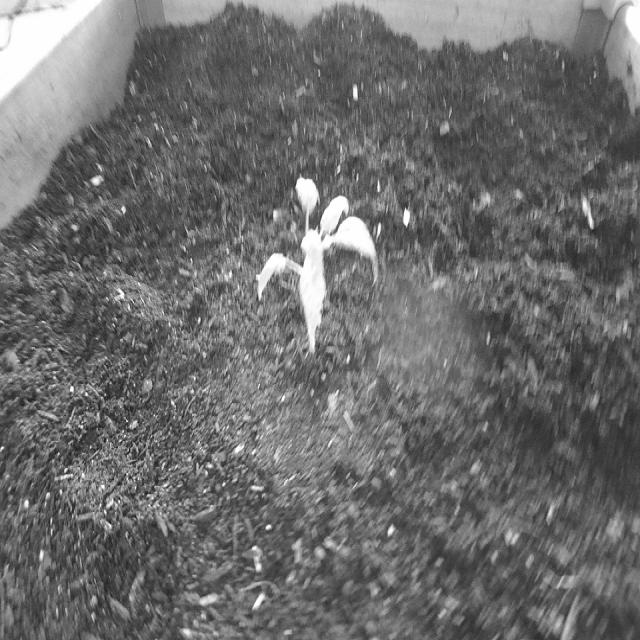Healthy: (249, 152, 388, 372)
